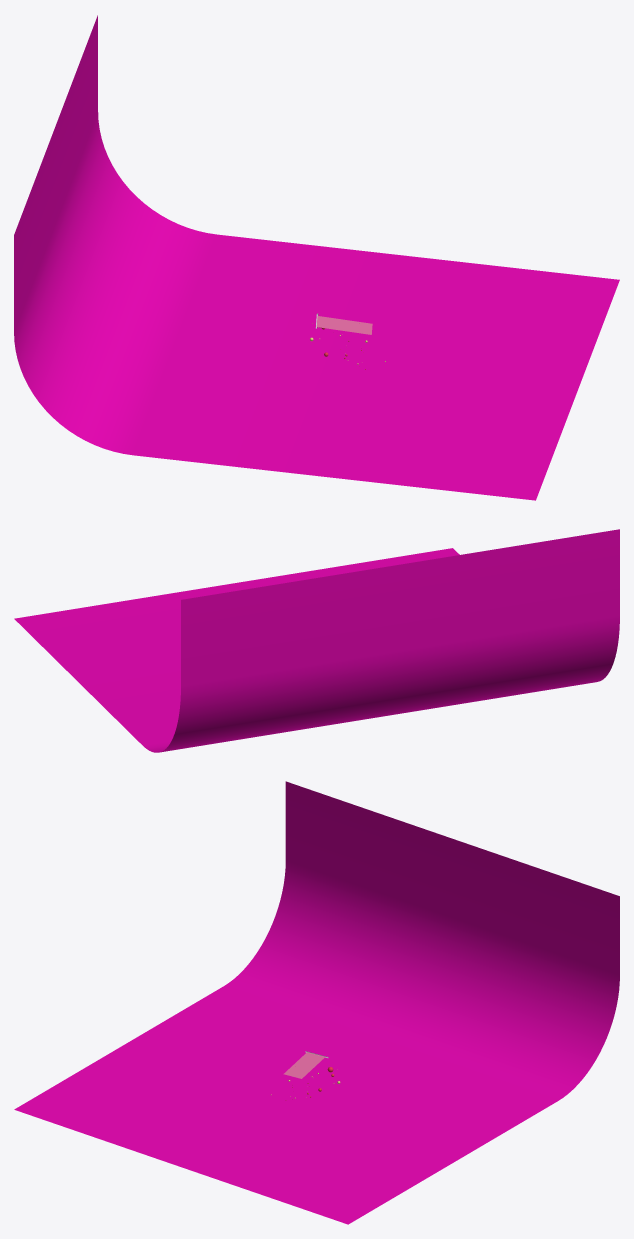
Rendered from salon-de-maria.glb.
The picture shows the model from 3 angles, top to bottom: view 1: azimuth 30°, elevation 25°; view 2: azimuth 150°, elevation 25°; view 3: azimuth 270°, elevation 25°; orthographic projection. The views are drawn at different scales.
Parts seen in each view (by area): view 1: 平面.001, 平面.002; view 2: 平面.001; view 3: 平面.001.
Boxes of the visible parts, <box> form: 平面.001: <box>14,15,619,500</box>; 平面.002: <box>316,316,372,334</box>; 平面.001: <box>14,529,619,752</box>; 平面.001: <box>14,781,619,1224</box>.
Size of the model in its own units: 103 by 35.11 by 103.
